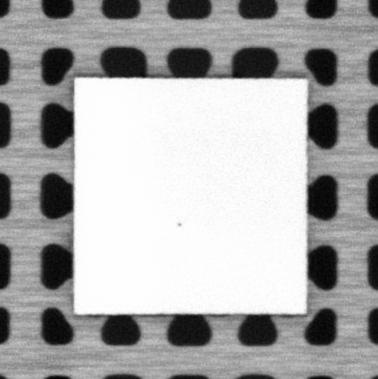DIE_INK: (175, 219, 185, 227)
